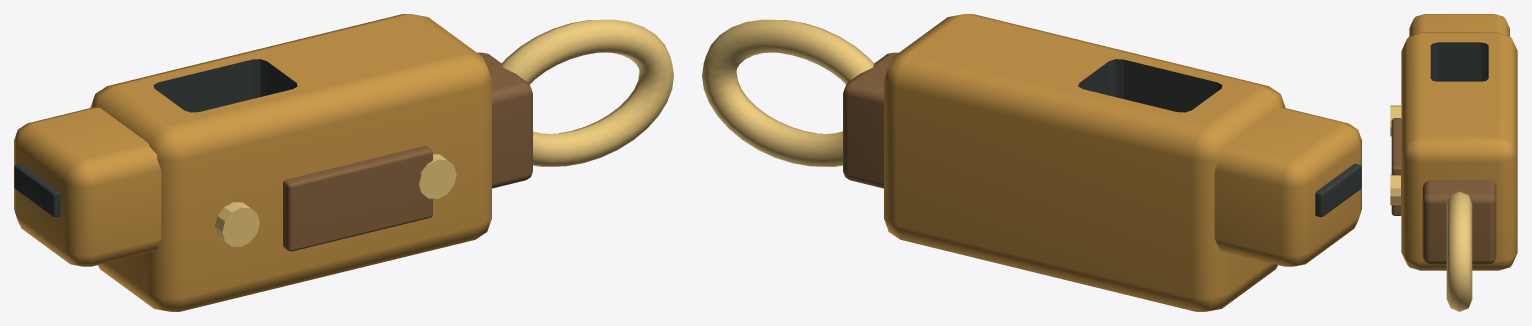
The model's file is e11d-foreman-whistle.glb.
3 views of the same model, side by side, from view 1: azimuth 30°, elevation 25°; view 2: azimuth 150°, elevation 25°; view 3: azimuth 270°, elevation 25° (orthographic). The views are drawn at different scales.
Visible parts, largest first — view 1: Foremans_Whistle; view 2: Foremans_Whistle; view 3: Foremans_Whistle.
Part boxes in pixels (x1=…): Foremans_Whistle: x1=14, y1=14, x2=673, y2=311; Foremans_Whistle: x1=702, y1=14, x2=1361, y2=311; Foremans_Whistle: x1=1390, y1=14, x2=1517, y2=311.
Size of the model in its own units: 0.1363 by 0.038 by 0.0329.
